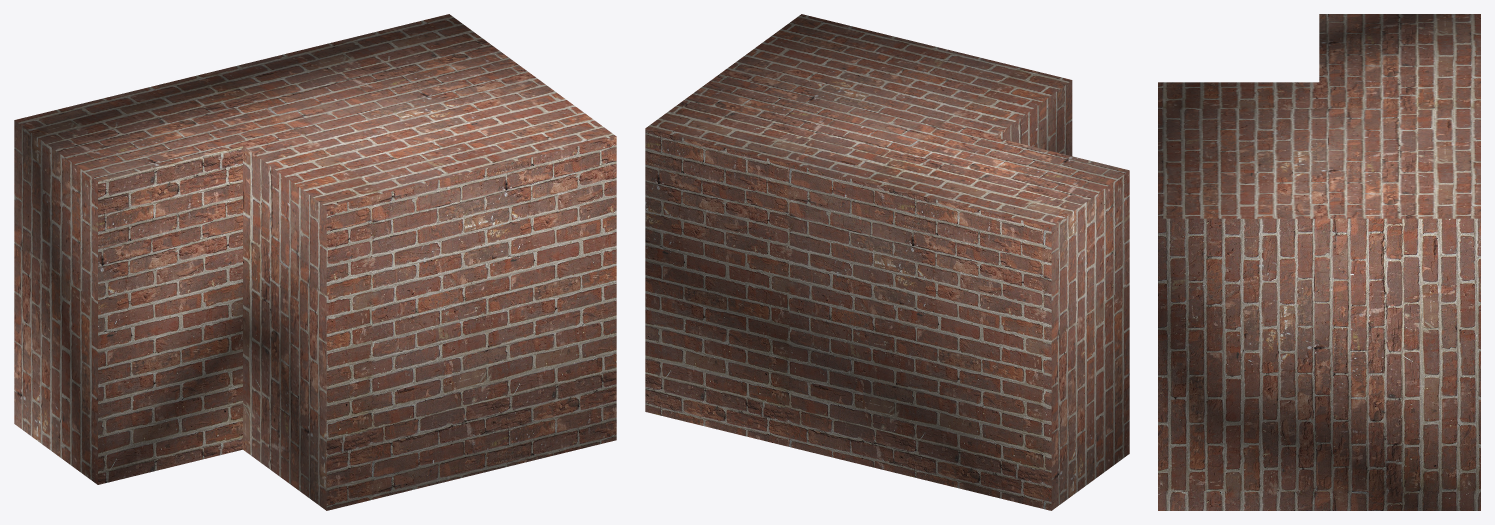
File: block2.DAE
3 renders of one model, left to right at view 1: azimuth 30°, elevation 25°; view 2: azimuth 150°, elevation 25°; view 3: azimuth 270°, elevation 25°, orthographic. The views are drawn at different scales.
Parts seen in each view (by area): view 1: adventureplaygound01a; view 2: adventureplaygound01a; view 3: adventureplaygound01a.
Part boxes in pixels (left/top/right/bottom): adventureplaygound01a: left=14, top=14, right=616, bottom=510; adventureplaygound01a: left=645, top=14, right=1129, bottom=510; adventureplaygound01a: left=1158, top=14, right=1480, bottom=510.
Bounding box in the file's own units: 300 × 200 × 200.
